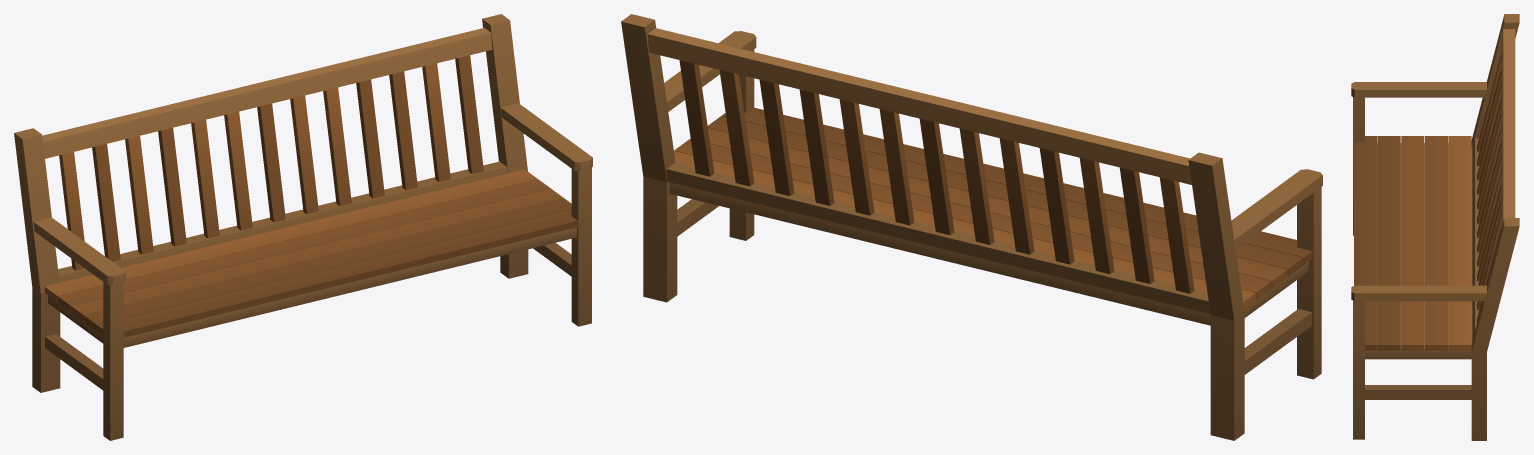
File: Prop_Bench_02.obj
The picture shows the model from 3 angles, left to right: view 1: azimuth 30°, elevation 25°; view 2: azimuth 150°, elevation 25°; view 3: azimuth 270°, elevation 25°; orthographic projection. The views are drawn at different scales.
Visible parts, largest first — view 1: Prop_Bench_02; view 2: Prop_Bench_02; view 3: Prop_Bench_02.
Boxes of the visible parts, x1,y1,x2,y2 form: Prop_Bench_02: [14, 14, 592, 440]; Prop_Bench_02: [621, 14, 1322, 440]; Prop_Bench_02: [1351, 14, 1519, 440].
Bounding box in the file's own units: 1.91 × 0.9 × 0.64.
1 material, 1 textured.
